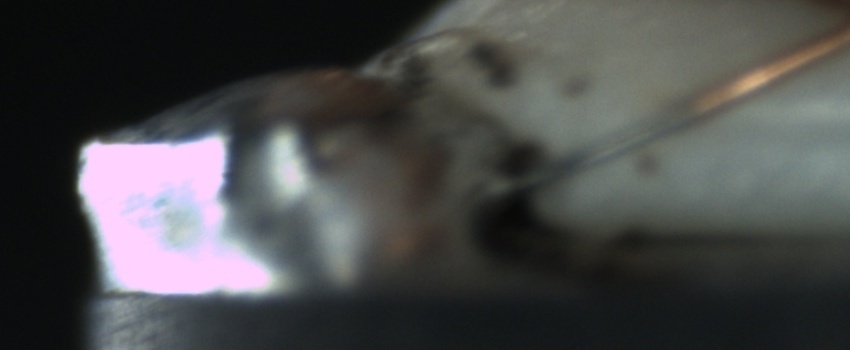DL: (696, 91, 849, 159)
TS: (500, 100, 700, 202)
